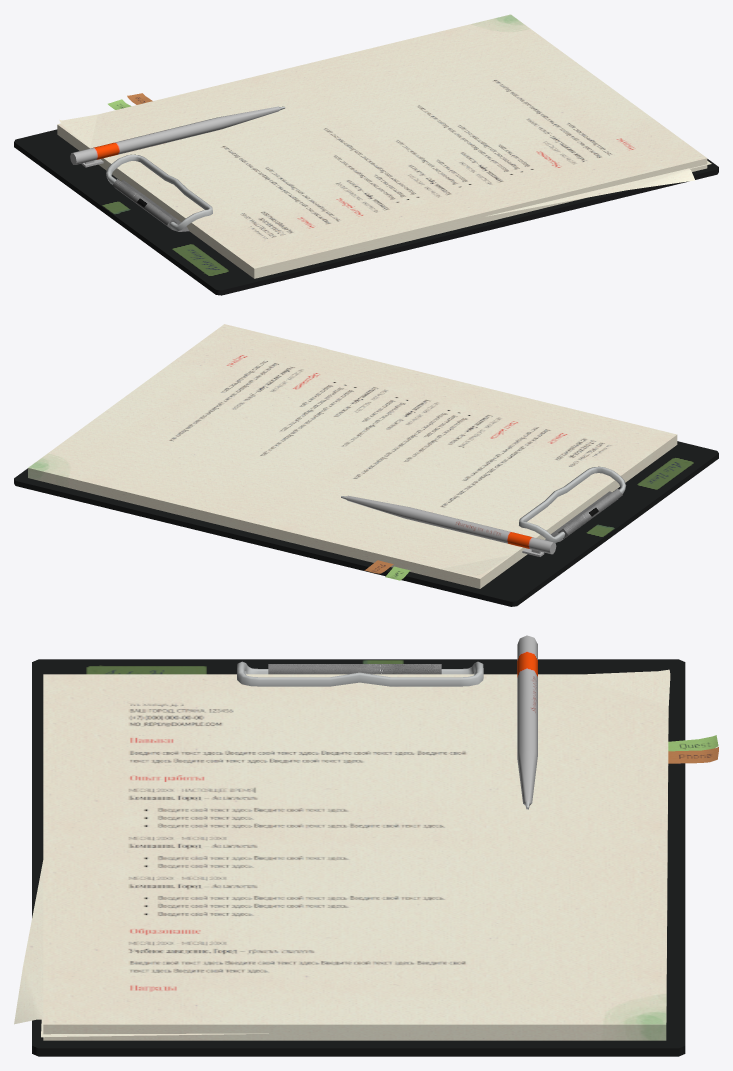
File: resume.gltf
3 views of the same model, one above another, from view 1: azimuth 30°, elevation 25°; view 2: azimuth 150°, elevation 25°; view 3: azimuth 270°, elevation 25° (orthographic). The views are drawn at different scales.
Parts seen in each view (by area): view 1: StackOfPaper, Tablet, Pen, Paper, Pin; view 2: StackOfPaper, Tablet, Pen, Pin, Paper; view 3: StackOfPaper, Tablet, Paper, Pin, Pen.
Part boxes in pixels (x1=…): StackOfPaper: x1=57, y1=14, x2=707, y2=278; Tablet: x1=14, y1=129, x2=718, y2=295; Pen: x1=70, y1=106, x2=285, y2=167; Paper: x1=59, y1=93, x2=711, y2=216; Pin: x1=106, y1=154, x2=212, y2=231; StackOfPaper: x1=28, y1=324, x2=677, y2=588; Tablet: x1=14, y1=441, x2=718, y2=606; Pen: x1=341, y1=495, x2=556, y2=556; Pin: x1=519, y1=466, x2=626, y2=542; Paper: x1=307, y1=344, x2=510, y2=580; StackOfPaper: x1=43, y1=674, x2=668, y2=1040; Tablet: x1=32, y1=659, x2=685, y2=1056; Paper: x1=14, y1=669, x2=718, y2=1037; Pin: x1=237, y1=661, x2=483, y2=686; Pen: x1=517, y1=635, x2=537, y2=809.
Bounding box in the file's own units: 31 × 1.57 × 23.74.
Materials: 1 (1 with a texture image).
